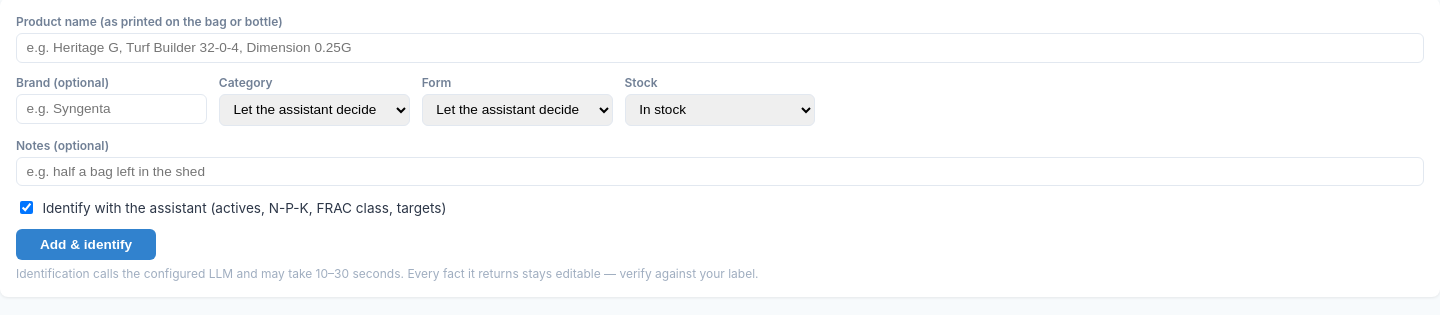
Test: AddProductForm while identifying › says Identifying… and that it may take 10–30 seconds
Expected: the text "may take 10–30 seconds" is shown, [16, 266, 758, 281]
Type "Heritage G" into the field labelled "Product name (as printed on the bag or bottle)" at [720, 48], box [16, 33, 1424, 63]
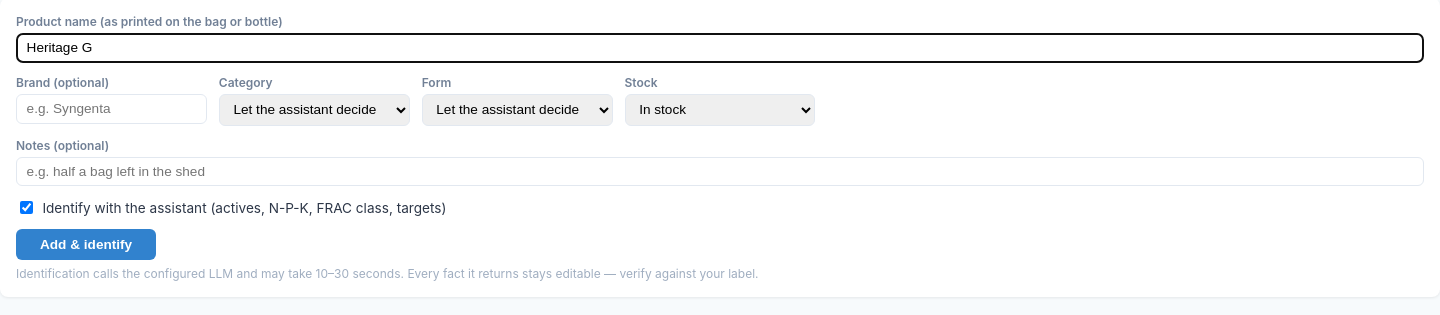
Click the button "Add & identify" at [86, 245], box [16, 229, 156, 260]
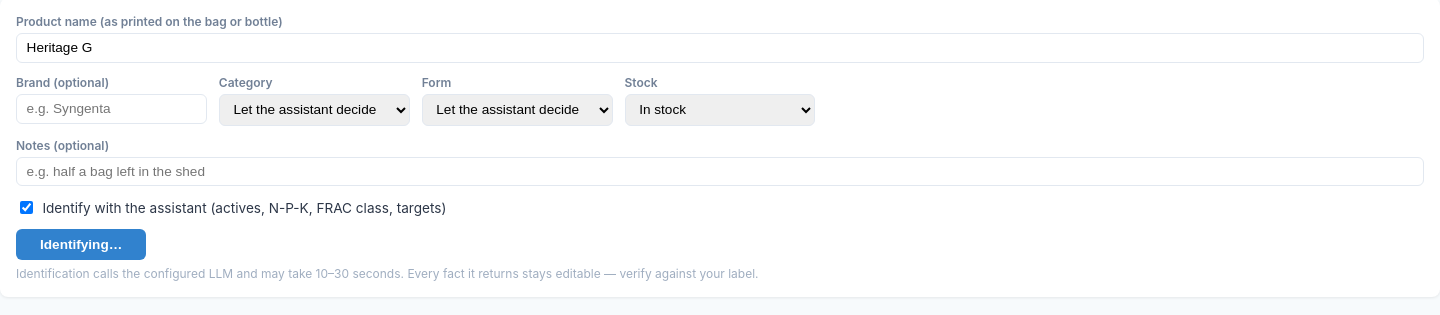
Expected: the button "Identifying…" is disabled, [16, 229, 146, 260]
